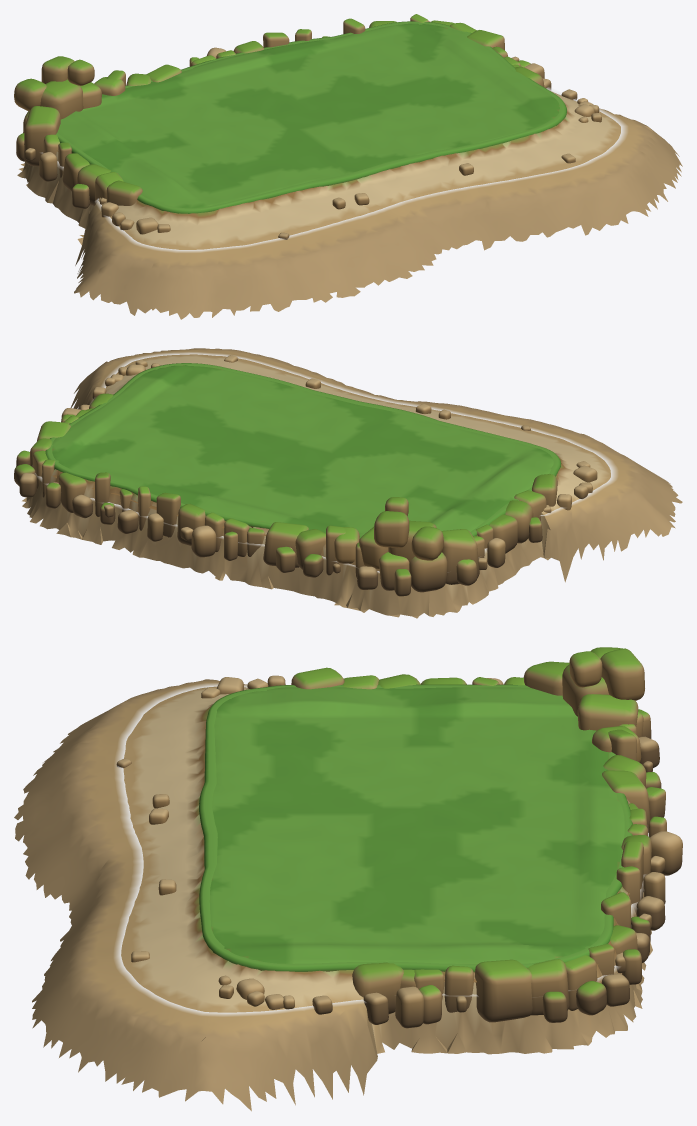
File: valora-island-sg.glb
The picture shows the model from 3 angles, top to bottom: view 1: azimuth 30°, elevation 25°; view 2: azimuth 150°, elevation 25°; view 3: azimuth 270°, elevation 25°; orthographic projection. The views are drawn at different scales.
Visible parts, largest first — view 1: island, foam; view 2: island, foam; view 3: island, foam.
Boxes of the visible parts, x1,y1,x2,y2 form: island: [14, 14, 682, 319]; foam: [41, 87, 627, 252]; island: [14, 348, 682, 618]; foam: [35, 352, 617, 572]; island: [14, 647, 682, 1111]; foam: [114, 683, 645, 1016].
Size of the model in its own units: 34.09 by 6.72 by 23.92.
